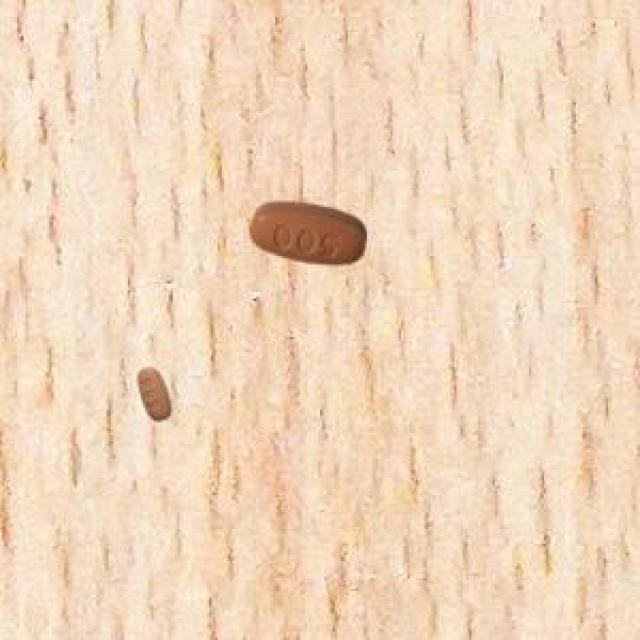Biogesic: (235, 192, 381, 288), (117, 352, 196, 430)
